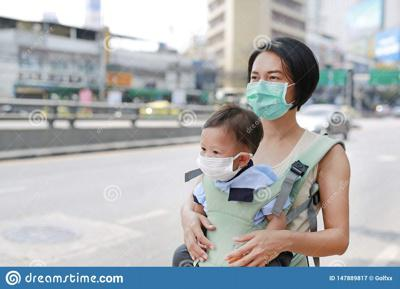OK: (249, 65, 290, 121), (200, 139, 235, 182)
